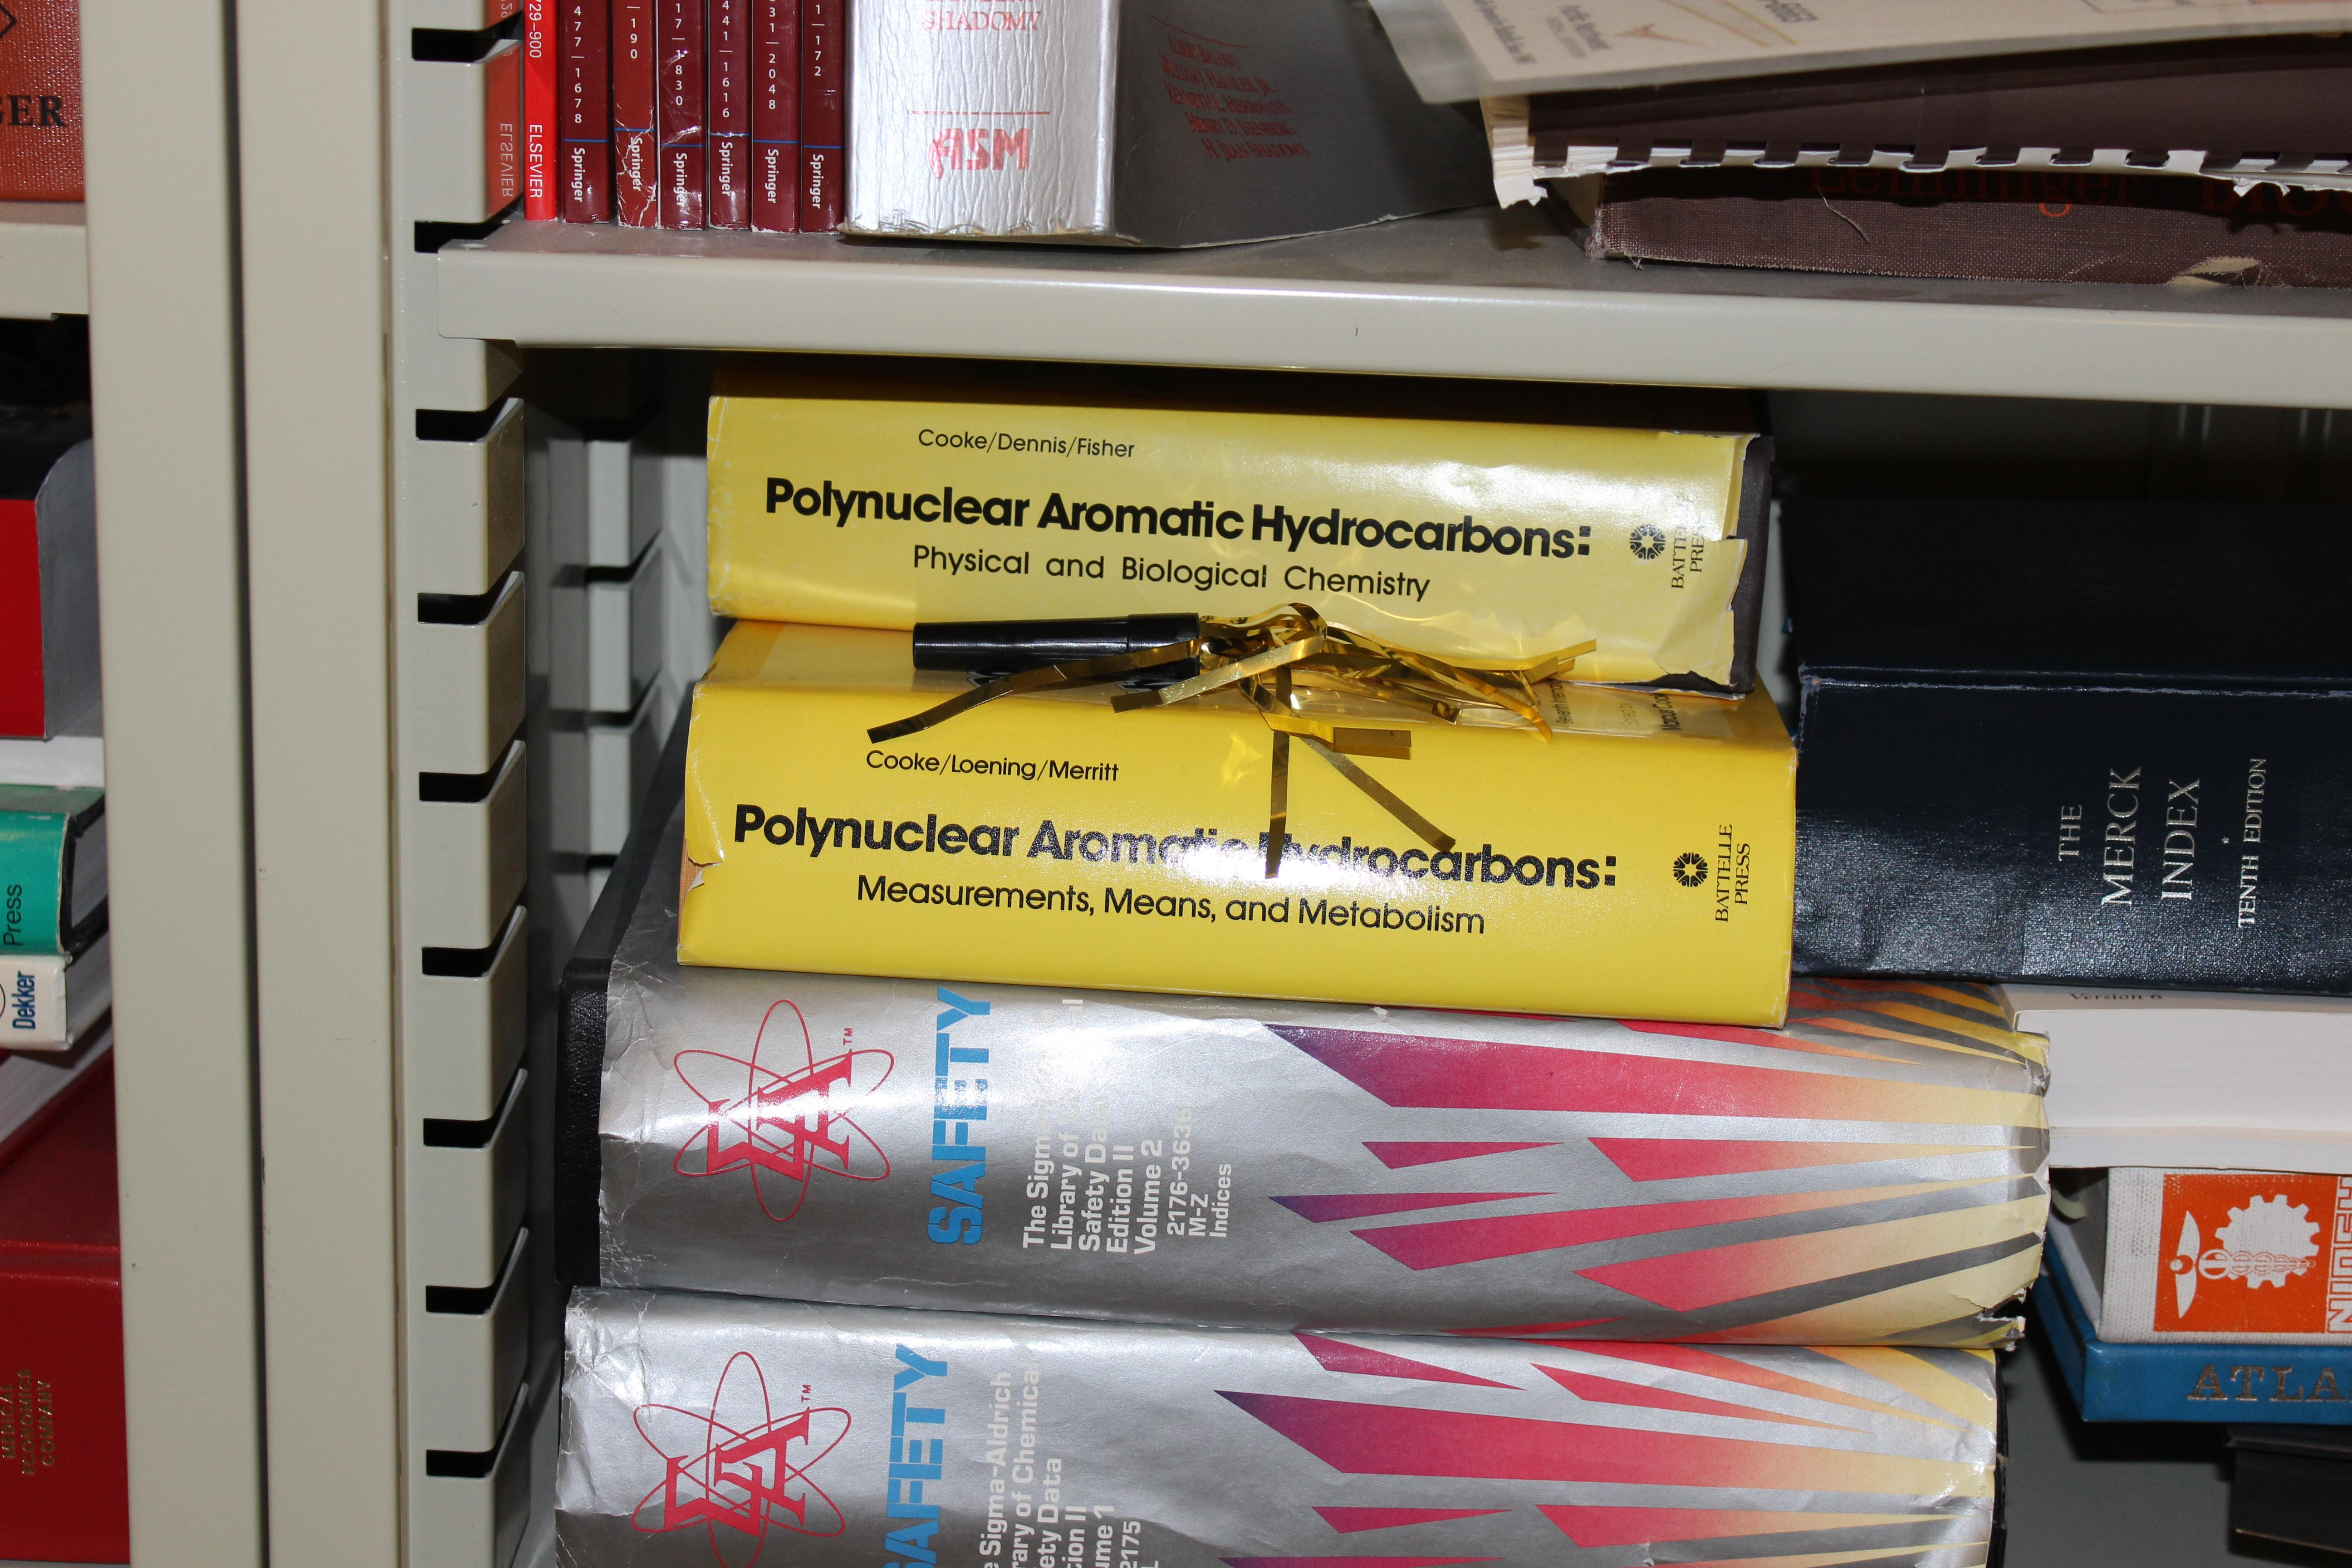partyFavor: (859, 562, 1640, 903)
